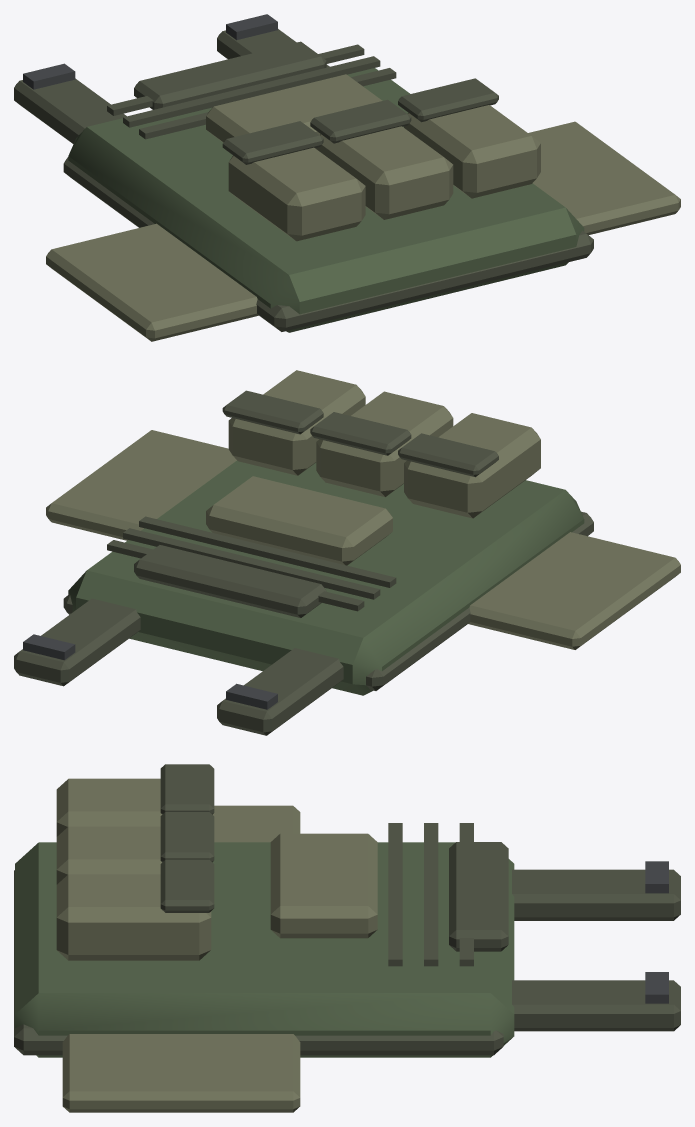
The model's file is ZR_ArmorVest.fbx.
3 views of the same model, one above another, from view 1: azimuth 30°, elevation 25°; view 2: azimuth 150°, elevation 25°; view 3: azimuth 270°, elevation 25° (orthographic). The views are drawn at different scales.
Visible parts, largest first — view 1: ZR_ArmorVest; view 2: ZR_ArmorVest; view 3: ZR_ArmorVest.
Boxes of the visible parts, left/top/right/bottom form: ZR_ArmorVest: left=14, top=14, right=680, bottom=341; ZR_ArmorVest: left=14, top=370, right=680, bottom=735; ZR_ArmorVest: left=14, top=764, right=680, bottom=1112.
Size of the model in its own units: 0.58 by 0.1395 by 0.5608.
